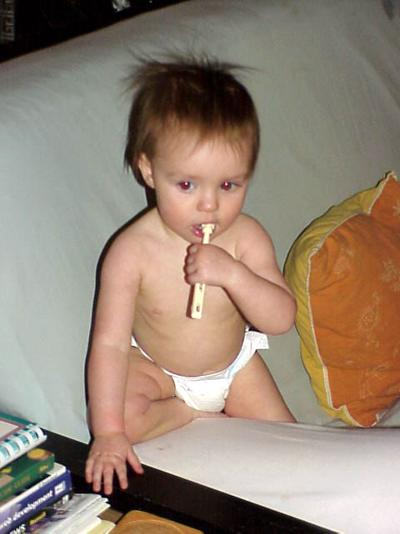person: (84, 51, 305, 496)
